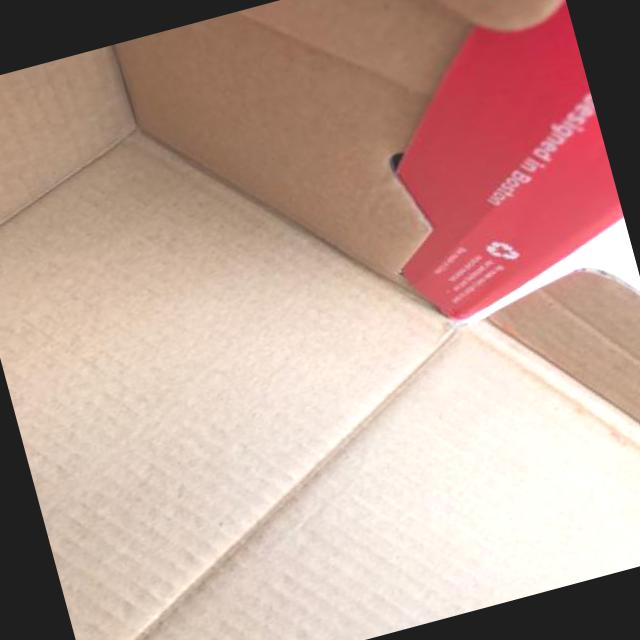cardboard: (0, 135, 444, 639), (142, 330, 639, 639), (114, 0, 559, 278), (128, 13, 435, 225), (0, 46, 134, 223), (491, 271, 639, 421), (438, 0, 561, 30)
